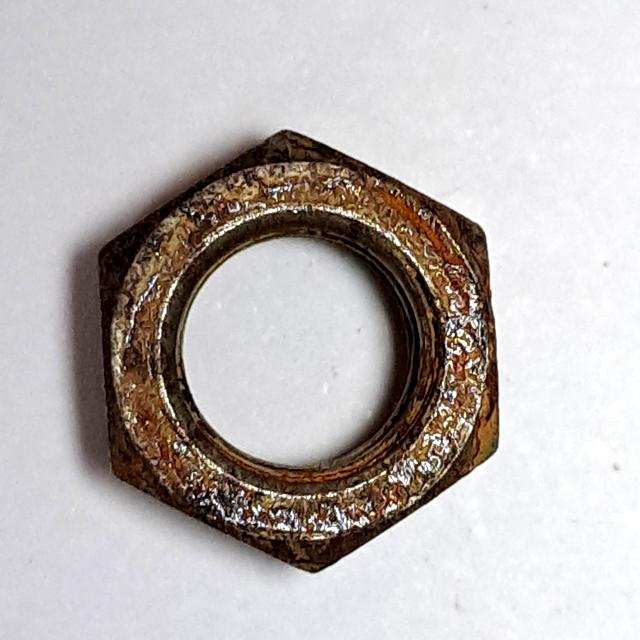Rust: (87, 119, 524, 589)
